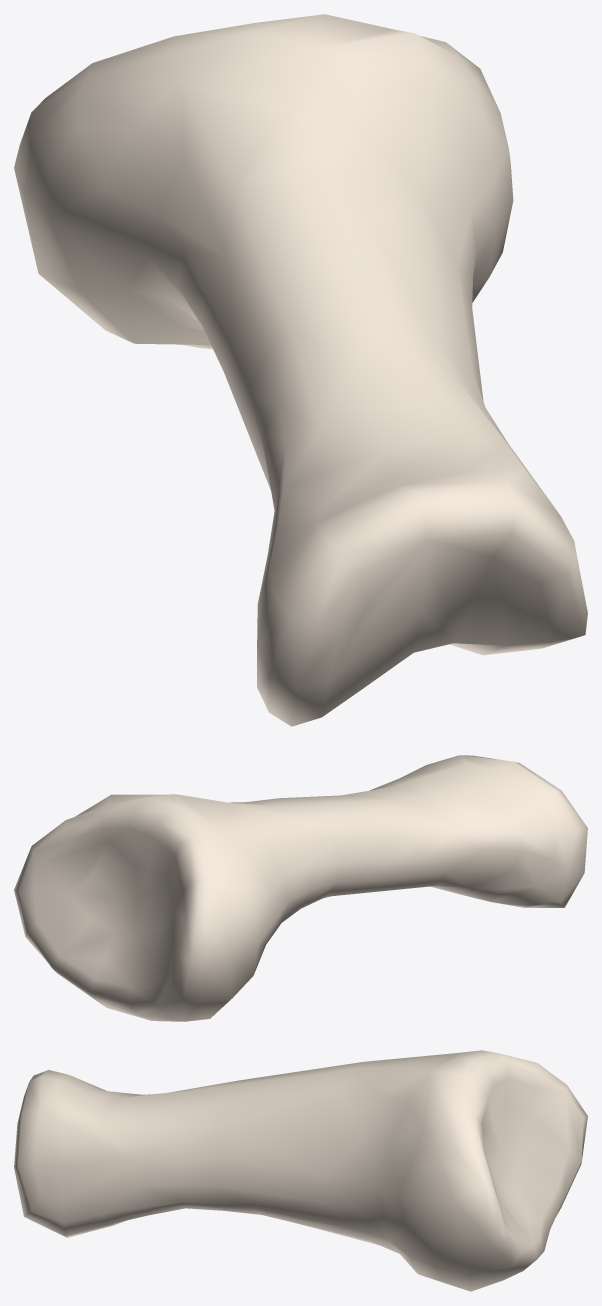
File: right_toe_5_proximal.glb
3 renders of one model, top to bottom at view 1: azimuth 30°, elevation 25°; view 2: azimuth 150°, elevation 25°; view 3: azimuth 270°, elevation 25°, orthographic. The views are drawn at different scales.
Parts seen in each view (by area): view 1: Proximal phalanx of fifth finger of foot.r; view 2: Proximal phalanx of fifth finger of foot.r; view 3: Proximal phalanx of fifth finger of foot.r.
Part boxes in pixels (box(x1,y1,x2,y2)): Proximal phalanx of fifth finger of foot.r: box(14, 14, 587, 726); Proximal phalanx of fifth finger of foot.r: box(14, 755, 587, 1021); Proximal phalanx of fifth finger of foot.r: box(14, 1050, 587, 1291).
Bounding box in the file's own units: 0.0184 × 0.0103 × 0.0263.
